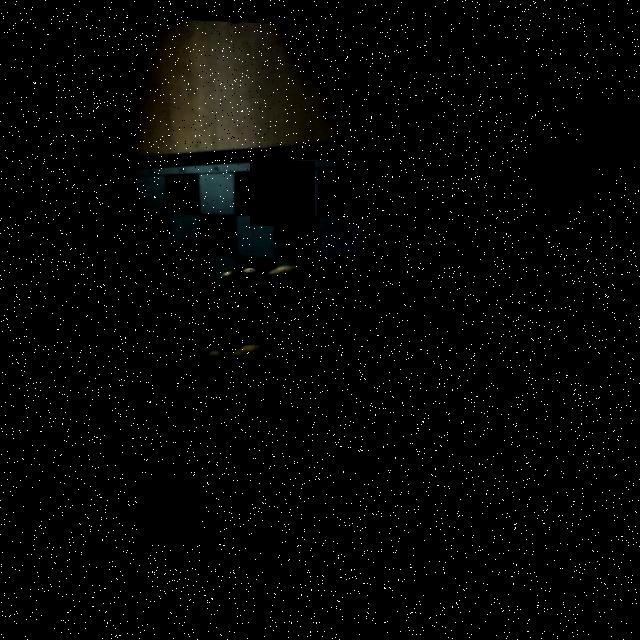chess-table-corners: (341, 510, 368, 536), (69, 163, 93, 186), (354, 148, 379, 170), (86, 415, 108, 433)
